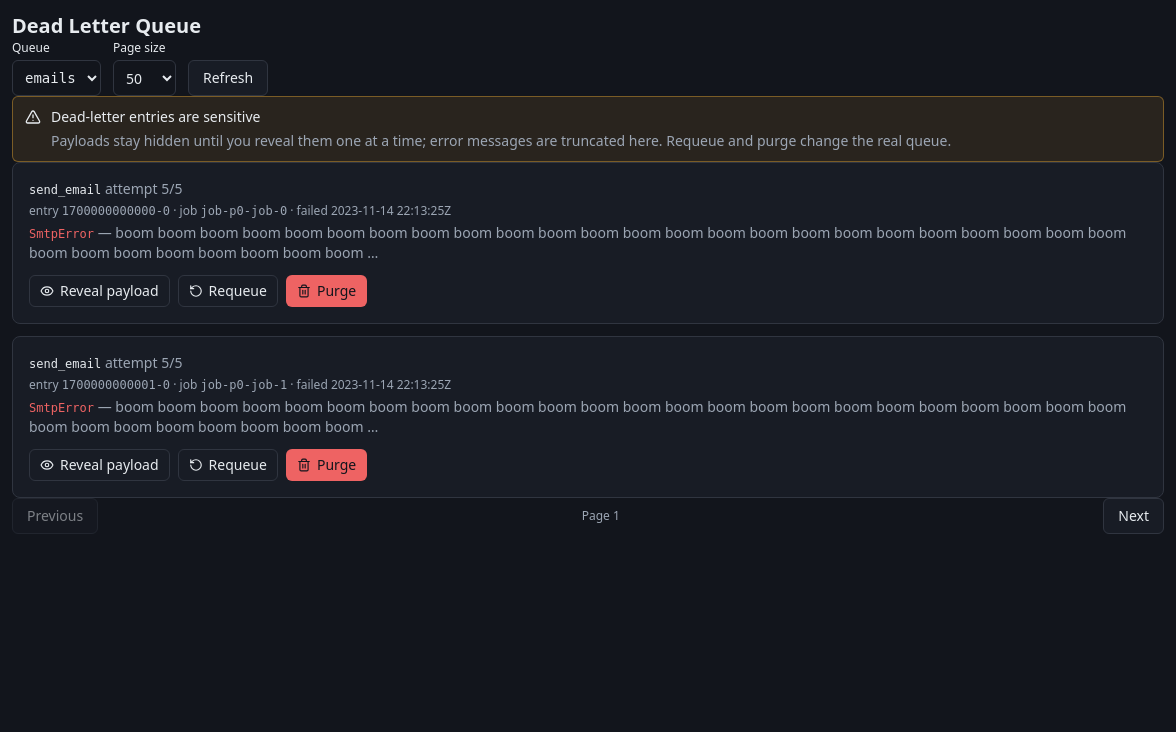
Test: dead-letter queue › clears revealed payloads when paging
Check: the text "job-p0-job-0" is shown, box [200,204,287,218]
Click the button "Reveal payload" below "1700000000000-0" at [99, 291], box [29,275,170,307]
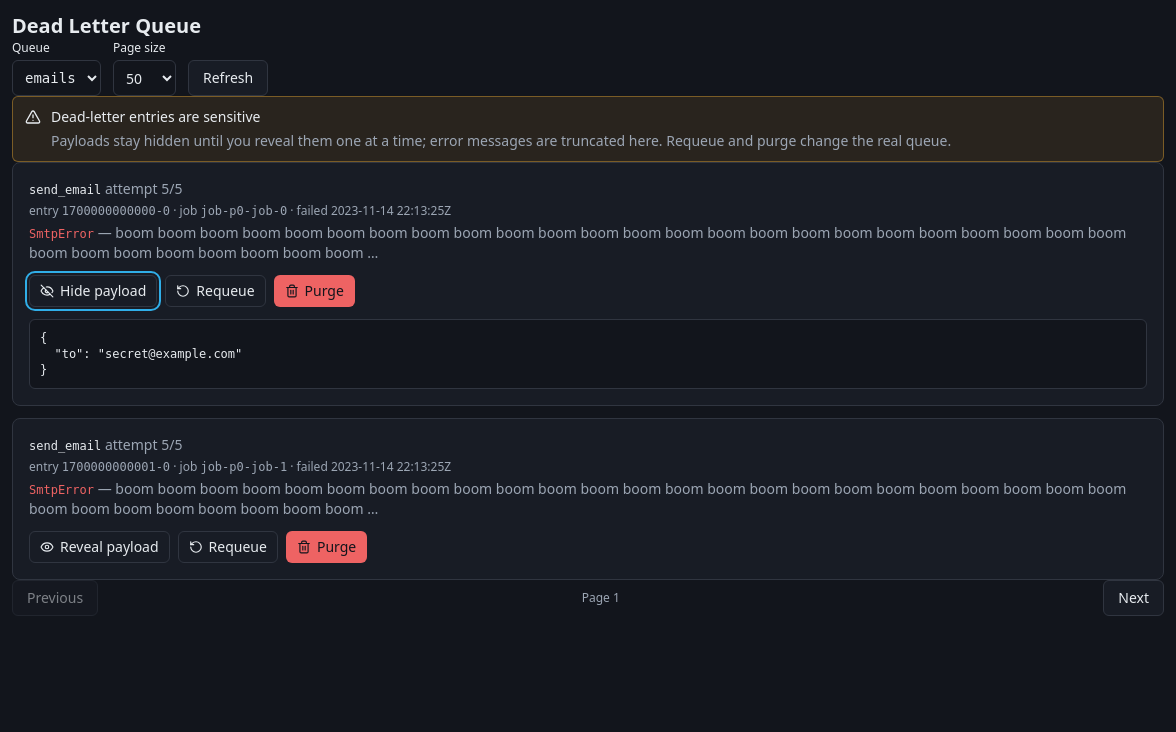
Check: the text named "Payload of" is shown, box [29,319,1147,389]
Click the button "Next" at [1134, 598], box [1103,580,1164,616]
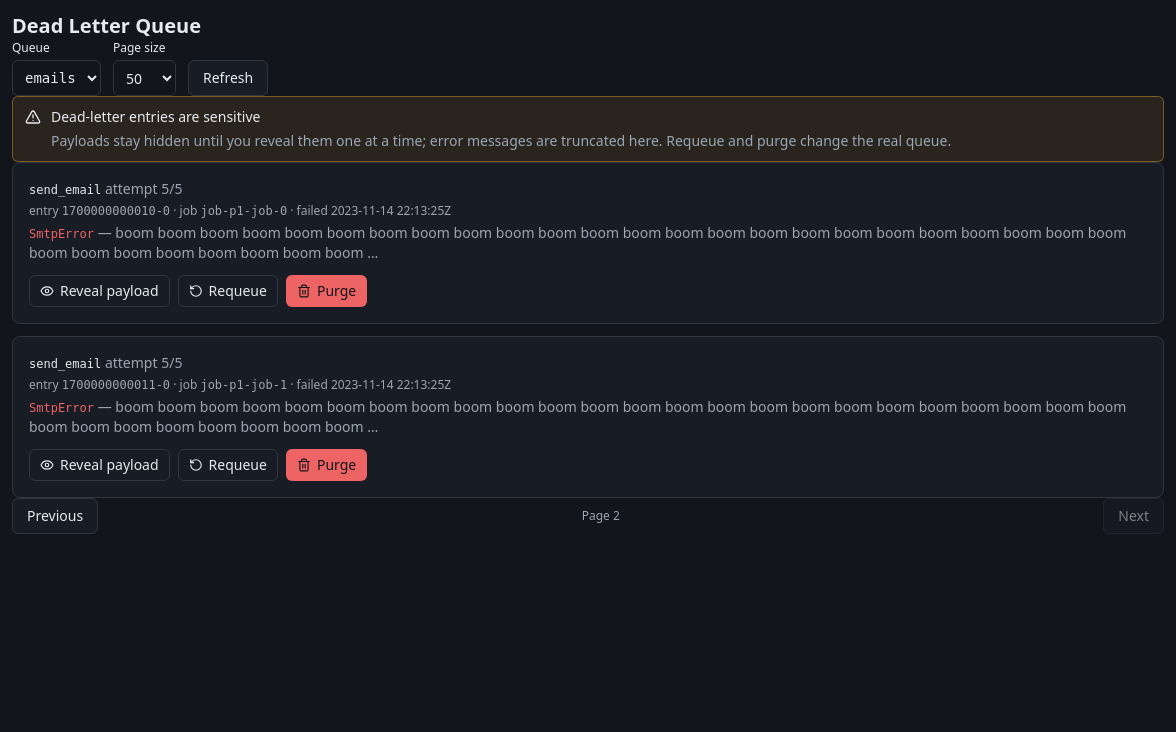
Check: the text "job-p1-job-0" is shown, box [200,204,287,218]
Check: the text "secret@example.com" is gone
